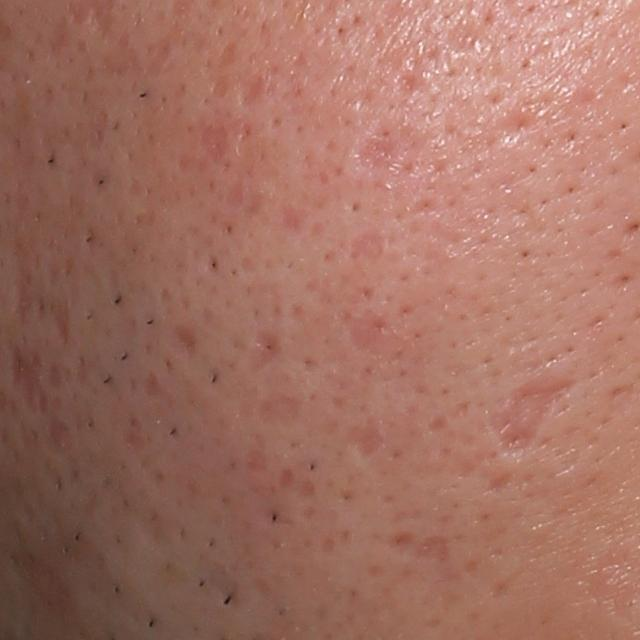atrophic_scar: (490, 378, 578, 457), (355, 123, 404, 172), (386, 529, 455, 563), (491, 107, 544, 150), (347, 311, 394, 354), (257, 388, 305, 428), (242, 328, 281, 375), (12, 349, 40, 410), (144, 31, 174, 82), (344, 420, 381, 458), (203, 125, 230, 167), (169, 325, 196, 359), (49, 302, 70, 344), (351, 233, 384, 258), (241, 71, 265, 105), (209, 74, 232, 103), (213, 41, 236, 69)
